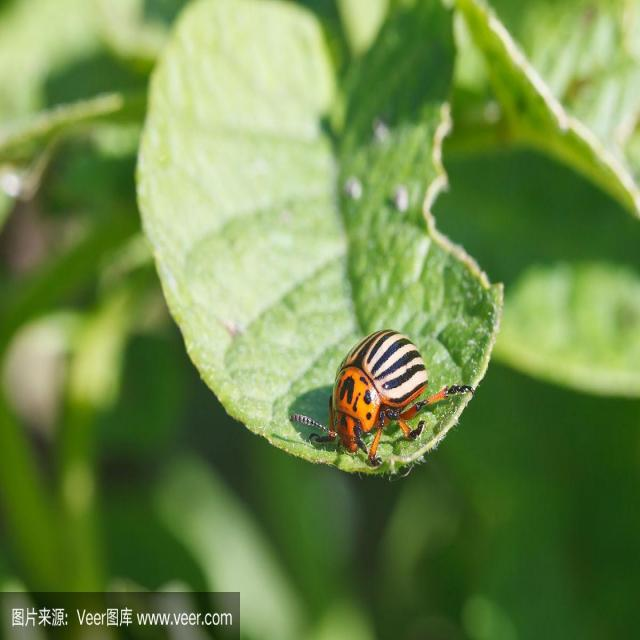ShuCaiHuaBanChong-Grown-: (328, 329, 438, 451)
